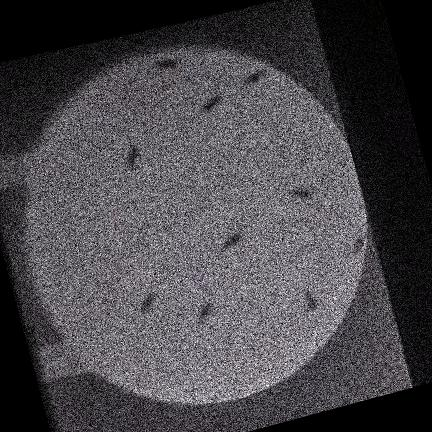fly: (223, 229, 245, 249), (200, 94, 222, 112), (243, 69, 267, 85), (140, 292, 157, 313), (304, 288, 319, 310), (289, 187, 316, 199), (196, 303, 212, 323), (154, 57, 179, 69), (126, 145, 139, 168), (353, 234, 366, 255)
